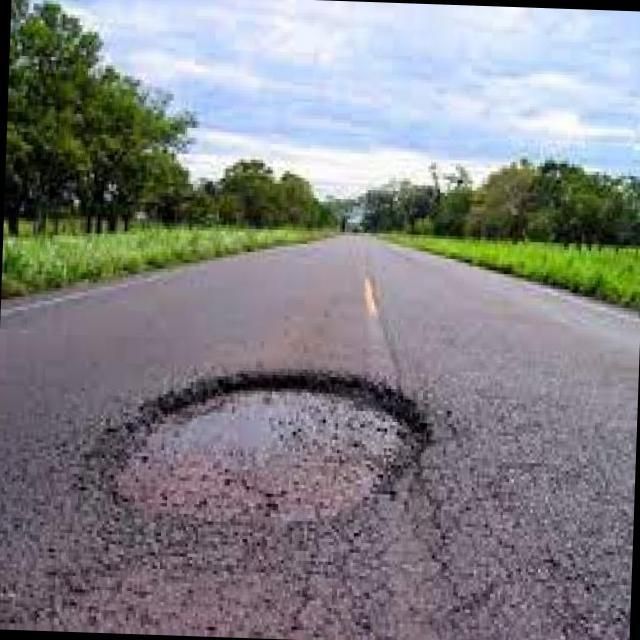Burst: (115, 377, 429, 533)
